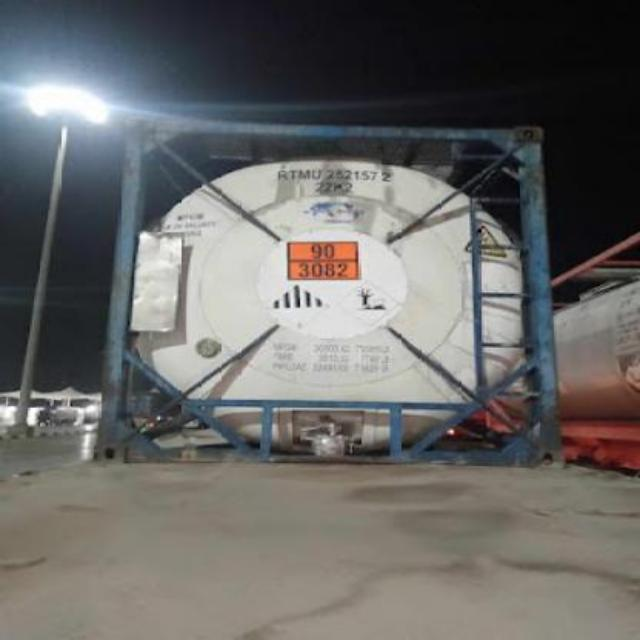1: (352, 166, 360, 184)
2: (380, 170, 392, 186), (324, 166, 334, 178), (344, 168, 352, 182)
5: (334, 166, 344, 178), (360, 168, 368, 182)
7: (368, 166, 378, 184)
M: (296, 164, 312, 186)
R: (274, 163, 290, 184)
T: (288, 164, 300, 186)
U: (308, 166, 322, 180)
